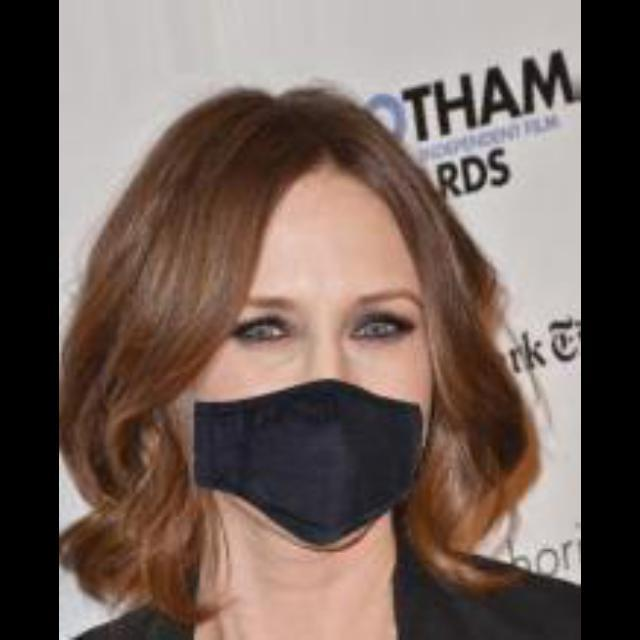suspicion: (164, 120, 488, 546)
